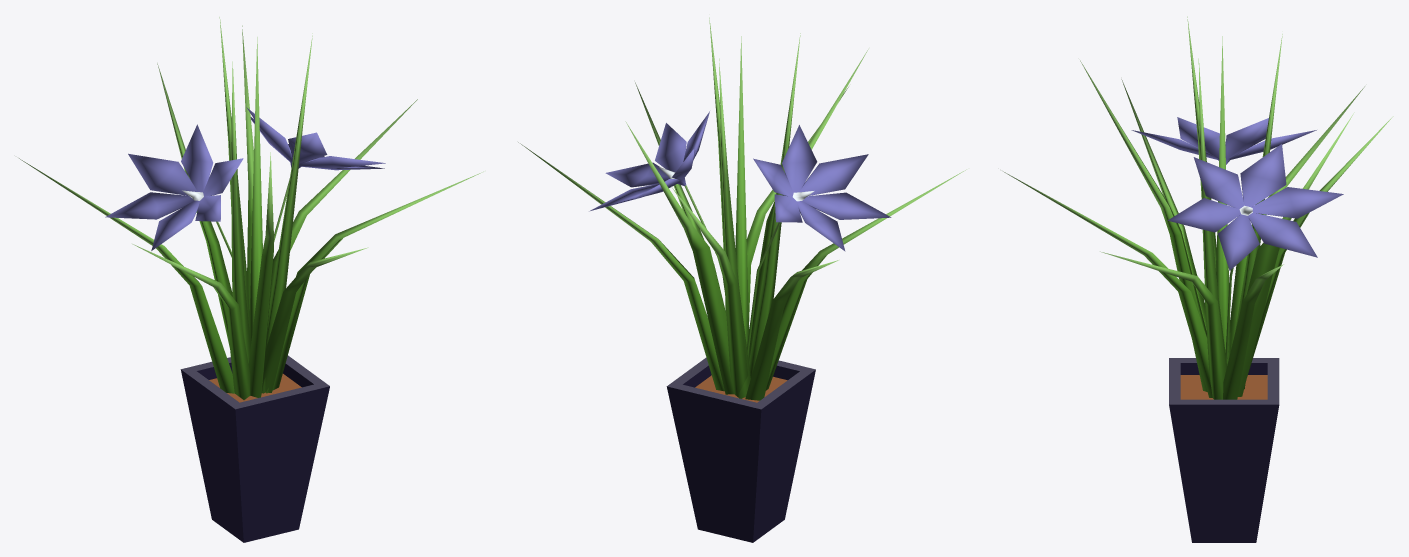
The model's file is pfp24.fbx.
3 renders of one model, left to right at view 1: azimuth 30°, elevation 25°; view 2: azimuth 150°, elevation 25°; view 3: azimuth 270°, elevation 25°, orthographic.
Parts seen in each view (by area): view 1: pfp24; view 2: pfp24; view 3: pfp24.
Boxes of the visible parts, box(x1,y1,x2,y2) form: pfp24: box(19, 17, 483, 542); pfp24: box(518, 17, 966, 542); pfp24: box(1003, 16, 1393, 542).
Size of the model in its own units: 79.25 by 99.67 by 72.35.
